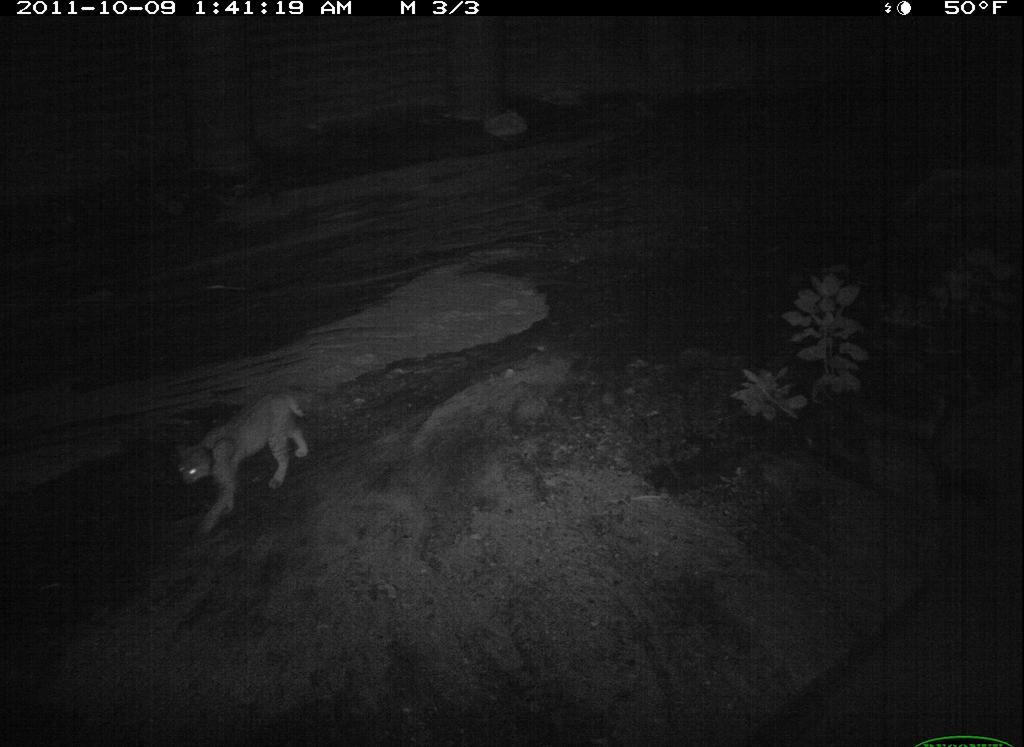bobcat: (164, 379, 319, 538)
